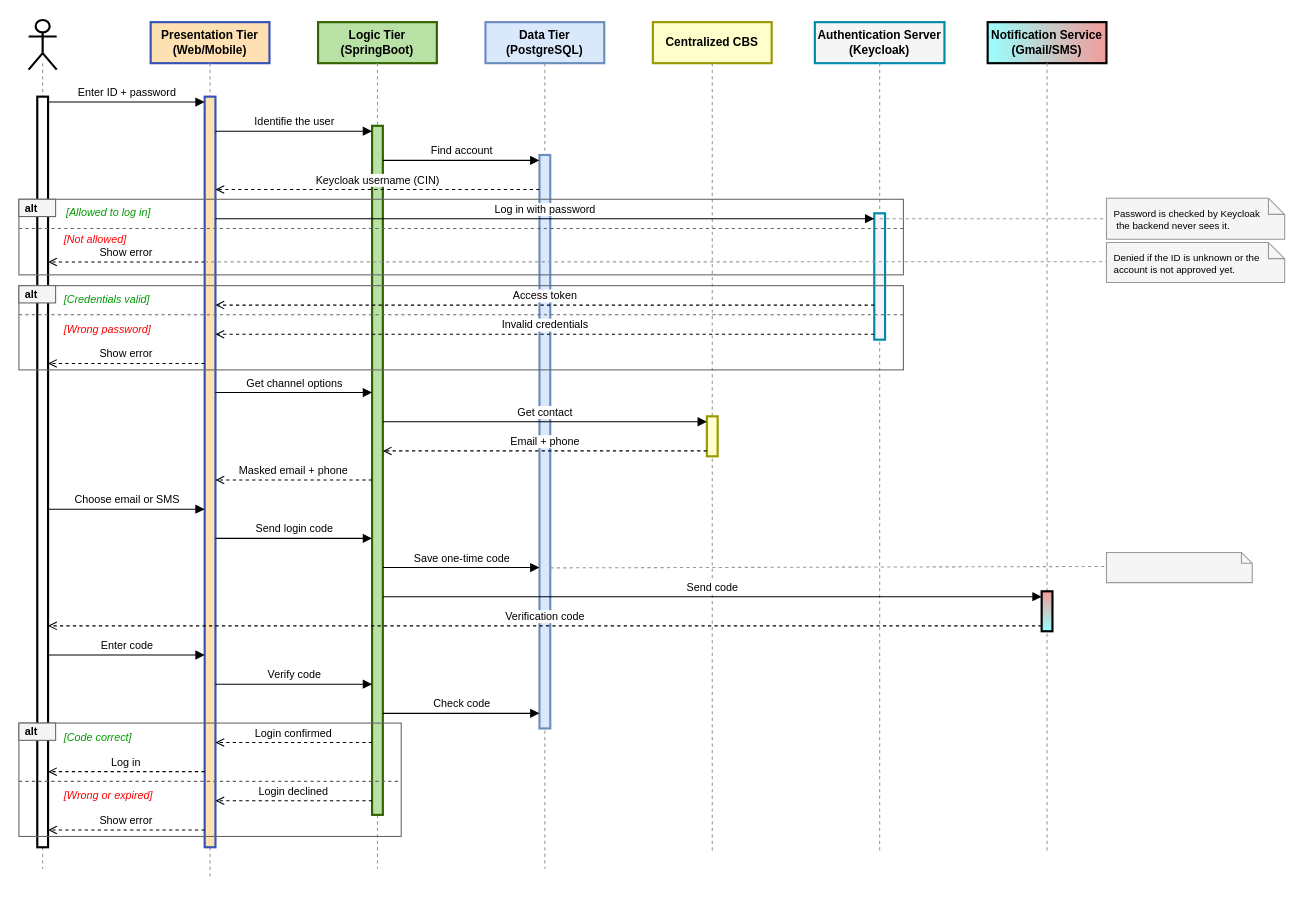
The diagram is 1304 pixels wide and 900 high, and some of its shapes have lost their labels. Each missing label, with the centre of its shape:
"Client" belongs at (42,44).
"Code (6 digits, 5-min, 3 tries)" belongs at (1178,567).
